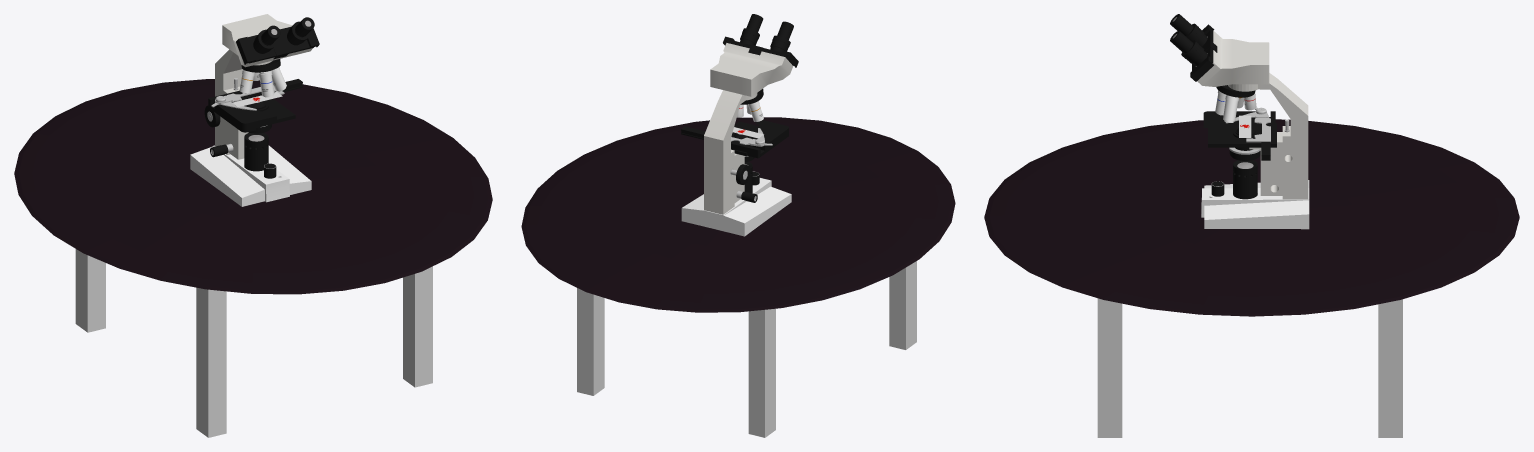
Rendered from microscope_x4.gltf.
3 views of the same model, side by side, from view 1: azimuth 30°, elevation 25°; view 2: azimuth 150°, elevation 25°; view 3: azimuth 270°, elevation 25° (orthographic). The views are drawn at different scales.
Visible parts, largest first — view 1: Sphere, Cube.026, base1, Cube.025, Cube.027, head, base2, head.001, tray, lamp, objective, base3; view 2: Sphere, Cube.027, base2, head, base1, Cube.024, Cube.026, tray, objective; view 3: Sphere, base1, Cube.025, Cube.024, base2, head, base3, tray2, lamp, objective, head.001, tray.
Boxes of the visible parts, x1=… form: Sphere: x1=14, y1=79, x2=492, y2=294; Cube.026: x1=196, y1=287, x2=226, y2=437; base1: x1=190, y1=145, x2=311, y2=206; Cube.025: x1=403, y1=266, x2=432, y2=387; Cube.027: x1=75, y1=249, x2=105, y2=332; head: x1=222, y1=14, x2=313, y2=67; base2: x1=215, y1=49, x2=272, y2=154; head.001: x1=236, y1=26, x2=319, y2=64; tray: x1=208, y1=90, x2=276, y2=132; lamp: x1=244, y1=133, x2=268, y2=171; objective: x1=261, y1=17, x2=314, y2=44; base3: x1=227, y1=122, x2=248, y2=159; Sphere: x1=521, y1=117, x2=955, y2=312; Cube.027: x1=748, y1=308, x2=775, y2=437; base2: x1=704, y1=90, x2=757, y2=214; head: x1=710, y1=41, x2=793, y2=96; base1: x1=681, y1=178, x2=791, y2=236; Cube.024: x1=577, y1=288, x2=604, y2=395; Cube.026: x1=889, y1=261, x2=916, y2=349; tray: x1=731, y1=120, x2=788, y2=158; objective: x1=746, y1=14, x2=793, y2=39; Sphere: x1=984, y1=119, x2=1519, y2=316; base1: x1=1201, y1=180, x2=1309, y2=229; Cube.025: x1=1097, y1=298, x2=1122, y2=437; Cube.024: x1=1378, y1=299, x2=1402, y2=437; base2: x1=1228, y1=73, x2=1308, y2=199; head: x1=1197, y1=29, x2=1269, y2=86; base3: x1=1249, y1=132, x2=1282, y2=195; tray2: x1=1208, y1=123, x2=1276, y2=147; lamp: x1=1233, y1=160, x2=1257, y2=199; objective: x1=1170, y1=14, x2=1193, y2=53; head.001: x1=1190, y1=24, x2=1217, y2=81; tray: x1=1203, y1=111, x2=1275, y2=127.
Bounding box in the file's own units: 0.7461 × 0.6375 × 0.8521.
Materials: 21 (6 with a texture image).
